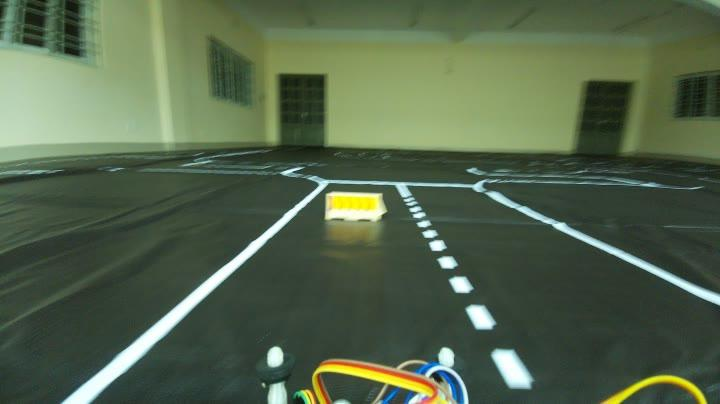roadblock: (318, 188, 388, 221)
